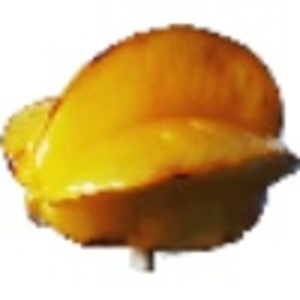carambola: (1, 23, 300, 274)
